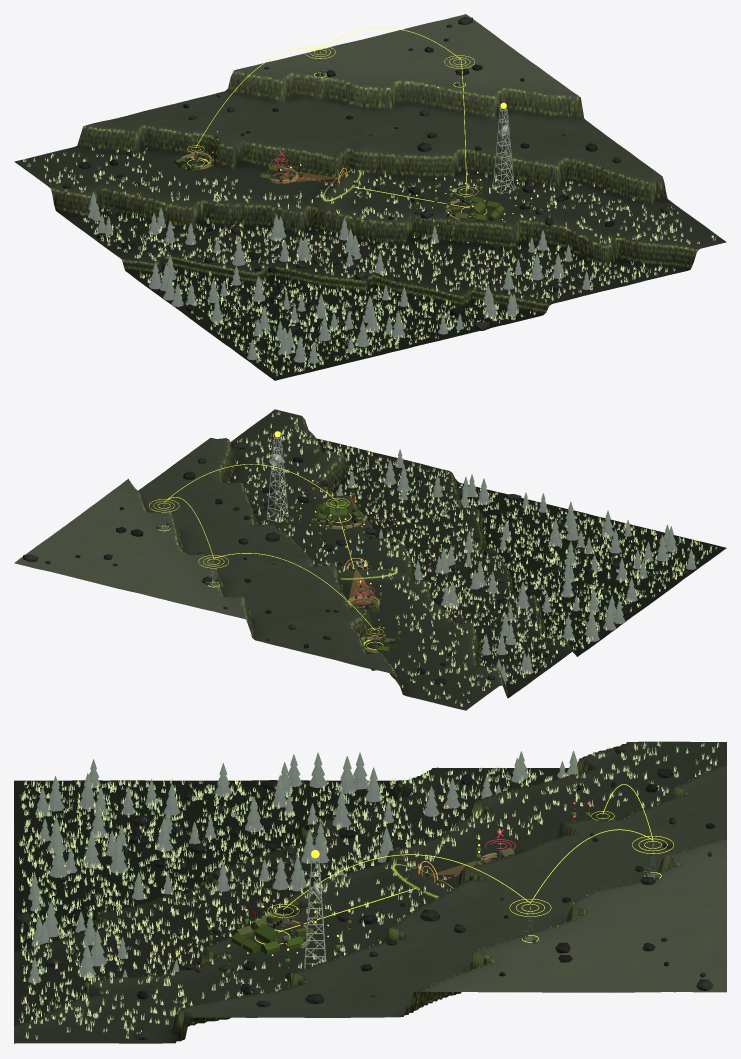
File: terrain_03_stepped_plateau.glb
3 views of the same model, one above another, from view 1: azimuth 30°, elevation 25°; view 2: azimuth 150°, elevation 25°; view 3: azimuth 270°, elevation 25° (orthographic). The views are drawn at different scales.
Parts seen in each view (by area): view 1: T03__terrain_03_stepped_plateau, T03__VEG_grass, T03__VEG_trees, T03__VEG_rocks, T03__PROP_lime, T03__DET_lattice_tower, T03__PROP_canvas; view 2: T03__terrain_03_stepped_plateau, T03__VEG_grass, T03__VEG_trees, T03__VEG_rocks, T03__PROP_lime, T03__DET_lattice_tower, T03__PROP_canvas, T03__PROP_steel; view 3: T03__terrain_03_stepped_plateau, T03__VEG_grass, T03__VEG_trees, T03__VEG_rocks, T03__PROP_lime, T03__PROP_canvas, T03__DET_lattice_tower, T03__PROP_steel, T03__PROP_canvas2.
Boxes of the visible parts, x1,y1,x2,y2 form: T03__terrain_03_stepped_plateau: [14, 14, 726, 380]; T03__VEG_grass: [23, 147, 716, 375]; T03__VEG_trees: [88, 192, 591, 363]; T03__VEG_rocks: [62, 17, 675, 354]; T03__PROP_lime: [187, 27, 487, 216]; T03__DET_lattice_tower: [493, 108, 514, 193]; T03__PROP_canvas: [173, 157, 504, 221]; T03__terrain_03_stepped_plateau: [14, 409, 726, 710]; T03__VEG_grass: [227, 411, 716, 706]; T03__VEG_trees: [337, 449, 696, 685]; T03__VEG_rocks: [23, 441, 688, 685]; T03__PROP_lime: [149, 464, 383, 649]; T03__DET_lattice_tower: [266, 436, 288, 522]; T03__PROP_canvas: [314, 501, 390, 652]; T03__PROP_steel: [159, 498, 381, 648]; T03__terrain_03_stepped_plateau: [14, 741, 726, 1043]; T03__VEG_grass: [18, 741, 718, 1039]; T03__VEG_trees: [28, 751, 578, 983]; T03__VEG_rocks: [15, 746, 714, 1039]; T03__PROP_lime: [254, 784, 673, 944]; T03__PROP_canvas: [231, 817, 615, 954]; T03__DET_lattice_tower: [304, 857, 326, 969]; T03__PROP_steel: [255, 820, 658, 941]; T03__PROP_canvas2: [233, 818, 658, 948].
Size of the model in its own units: 100 by 25.98 by 100.
23 materials, 1 textured.
